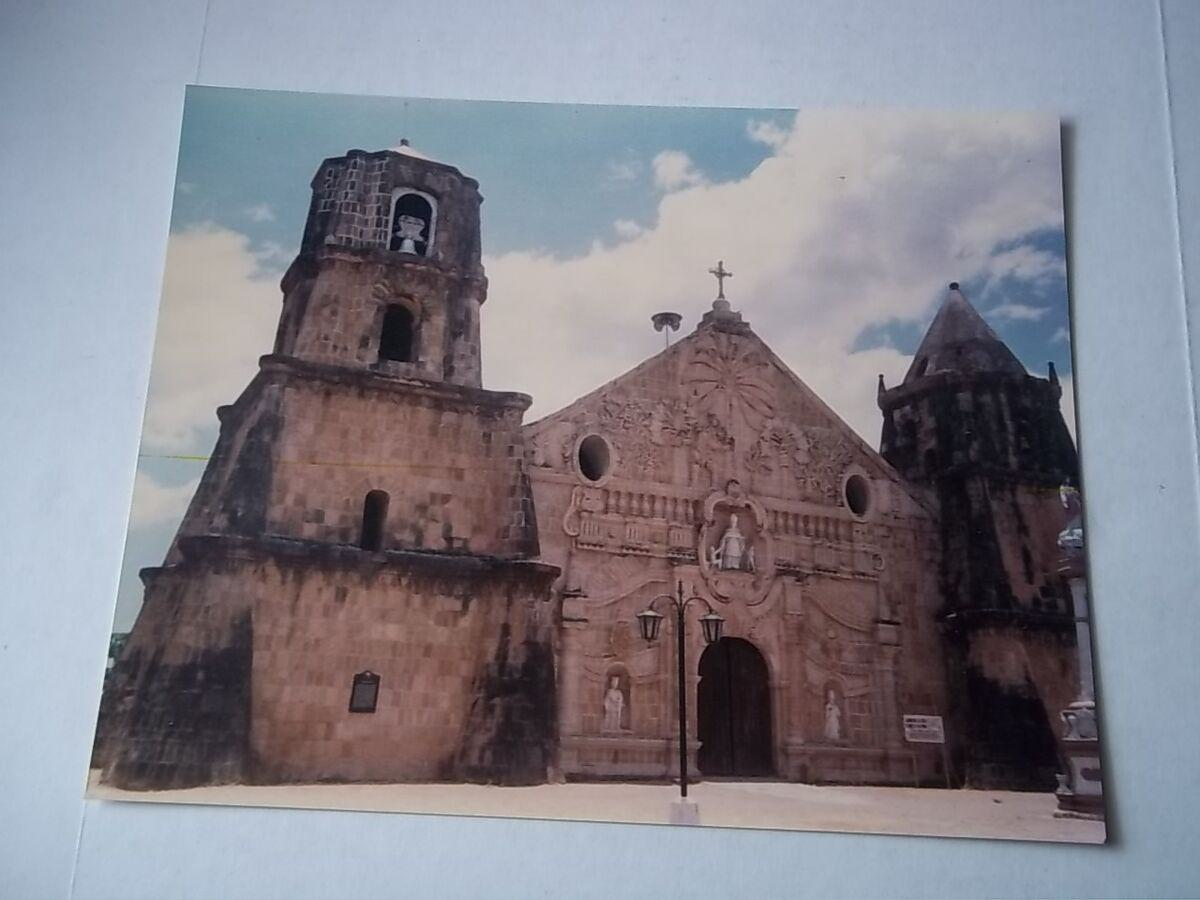Miagao Church: (175, 141, 1096, 786)
